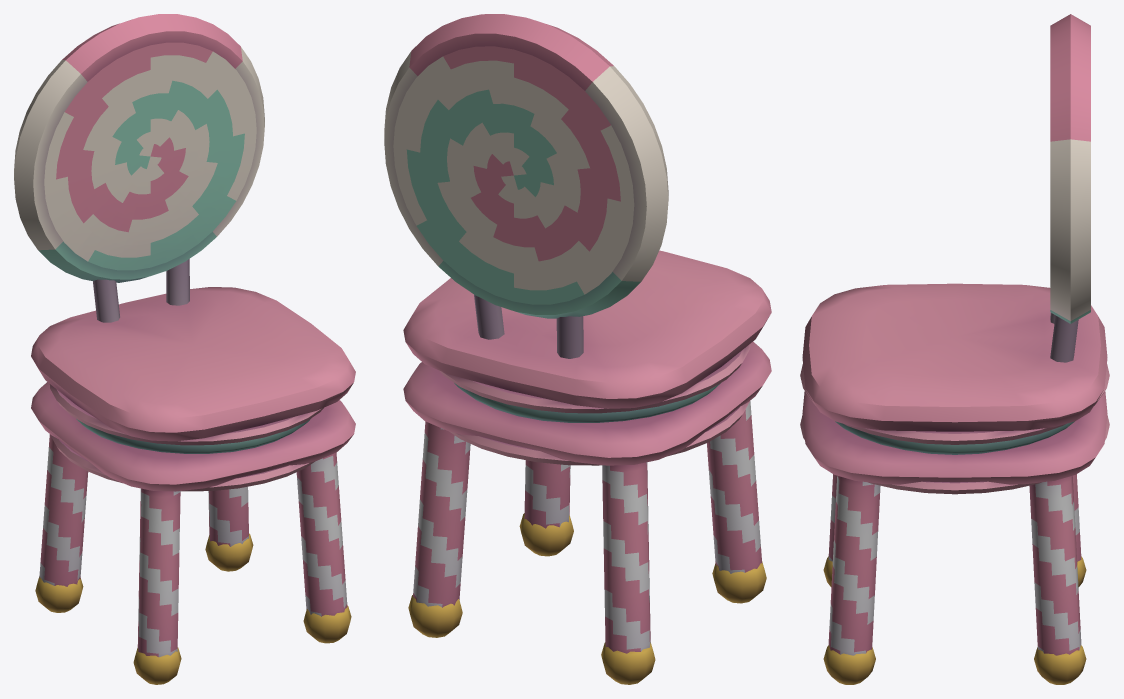
The model's file is chair_candy.glb.
3 views of the same model, side by side, from view 1: azimuth 30°, elevation 25°; view 2: azimuth 150°, elevation 25°; view 3: azimuth 270°, elevation 25° (orthographic). The views are drawn at different scales.
Visible parts, largest first — view 1: chair_candy; view 2: chair_candy; view 3: chair_candy.
Part boxes in pixels (<box>): chair_candy: <box>14,14,355,684</box>; chair_candy: <box>384,14,771,684</box>; chair_candy: <box>800,14,1109,684</box>.
Bounding box in the file's own units: 0.5901 × 1.28 × 0.589.
